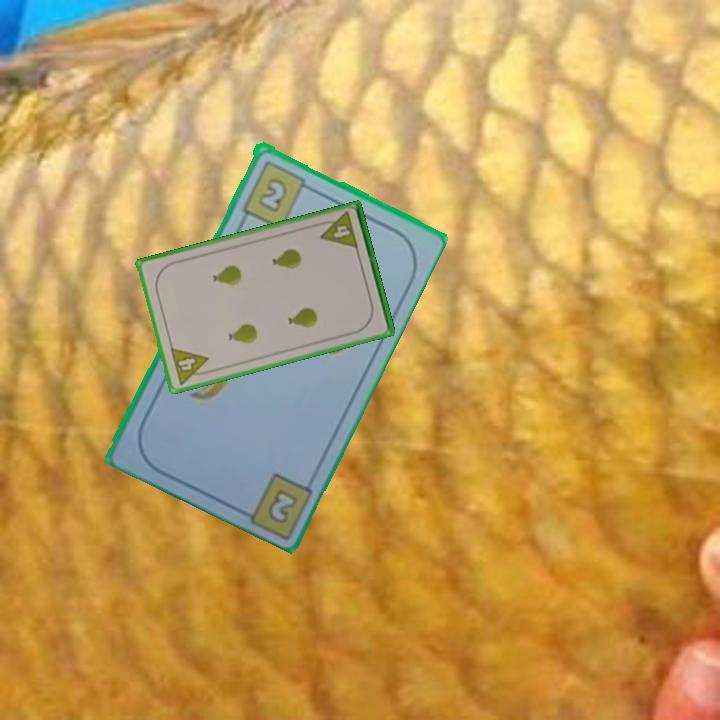2b: (238, 156, 316, 231), (264, 485, 300, 526)
4p: (167, 344, 214, 388), (314, 208, 361, 252)
